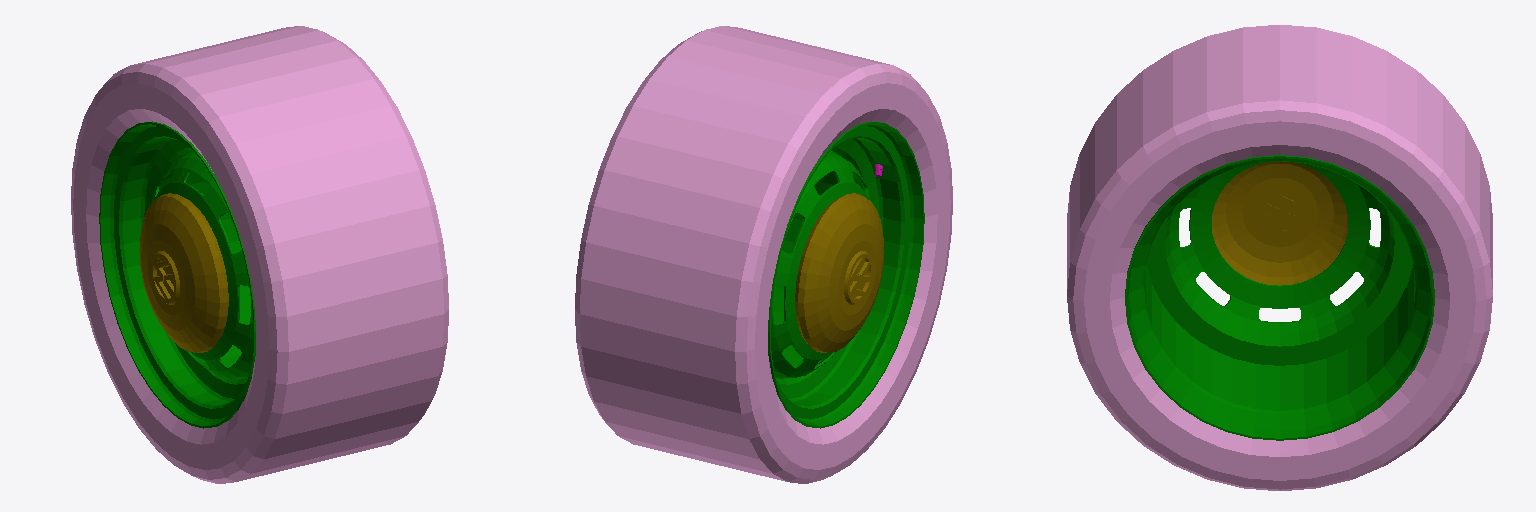
The model's file is wheel.obj.
3 renders of one model, left to right at view 1: azimuth 30°, elevation 25°; view 2: azimuth 150°, elevation 25°; view 3: azimuth 270°, elevation 25°, orthographic.
Visible parts, largest first — view 1: Object04, Line191, Line192; view 2: Object04, Line191, Line192; view 3: Object04, Line191, Line192.
Part boxes in pixels (bbox=[...]): Object04: bbox=[71, 26, 448, 483]; Line191: bbox=[99, 121, 255, 428]; Line192: bbox=[139, 193, 228, 352]; Object04: bbox=[575, 26, 952, 483]; Line191: bbox=[768, 121, 924, 428]; Line192: bbox=[795, 193, 884, 352]; Object04: bbox=[1067, 25, 1492, 490]; Line191: bbox=[1125, 155, 1434, 440]; Line192: bbox=[1212, 161, 1347, 285].
Bounding box in the file's own units: 0.398 × 0.8034 × 0.7938.